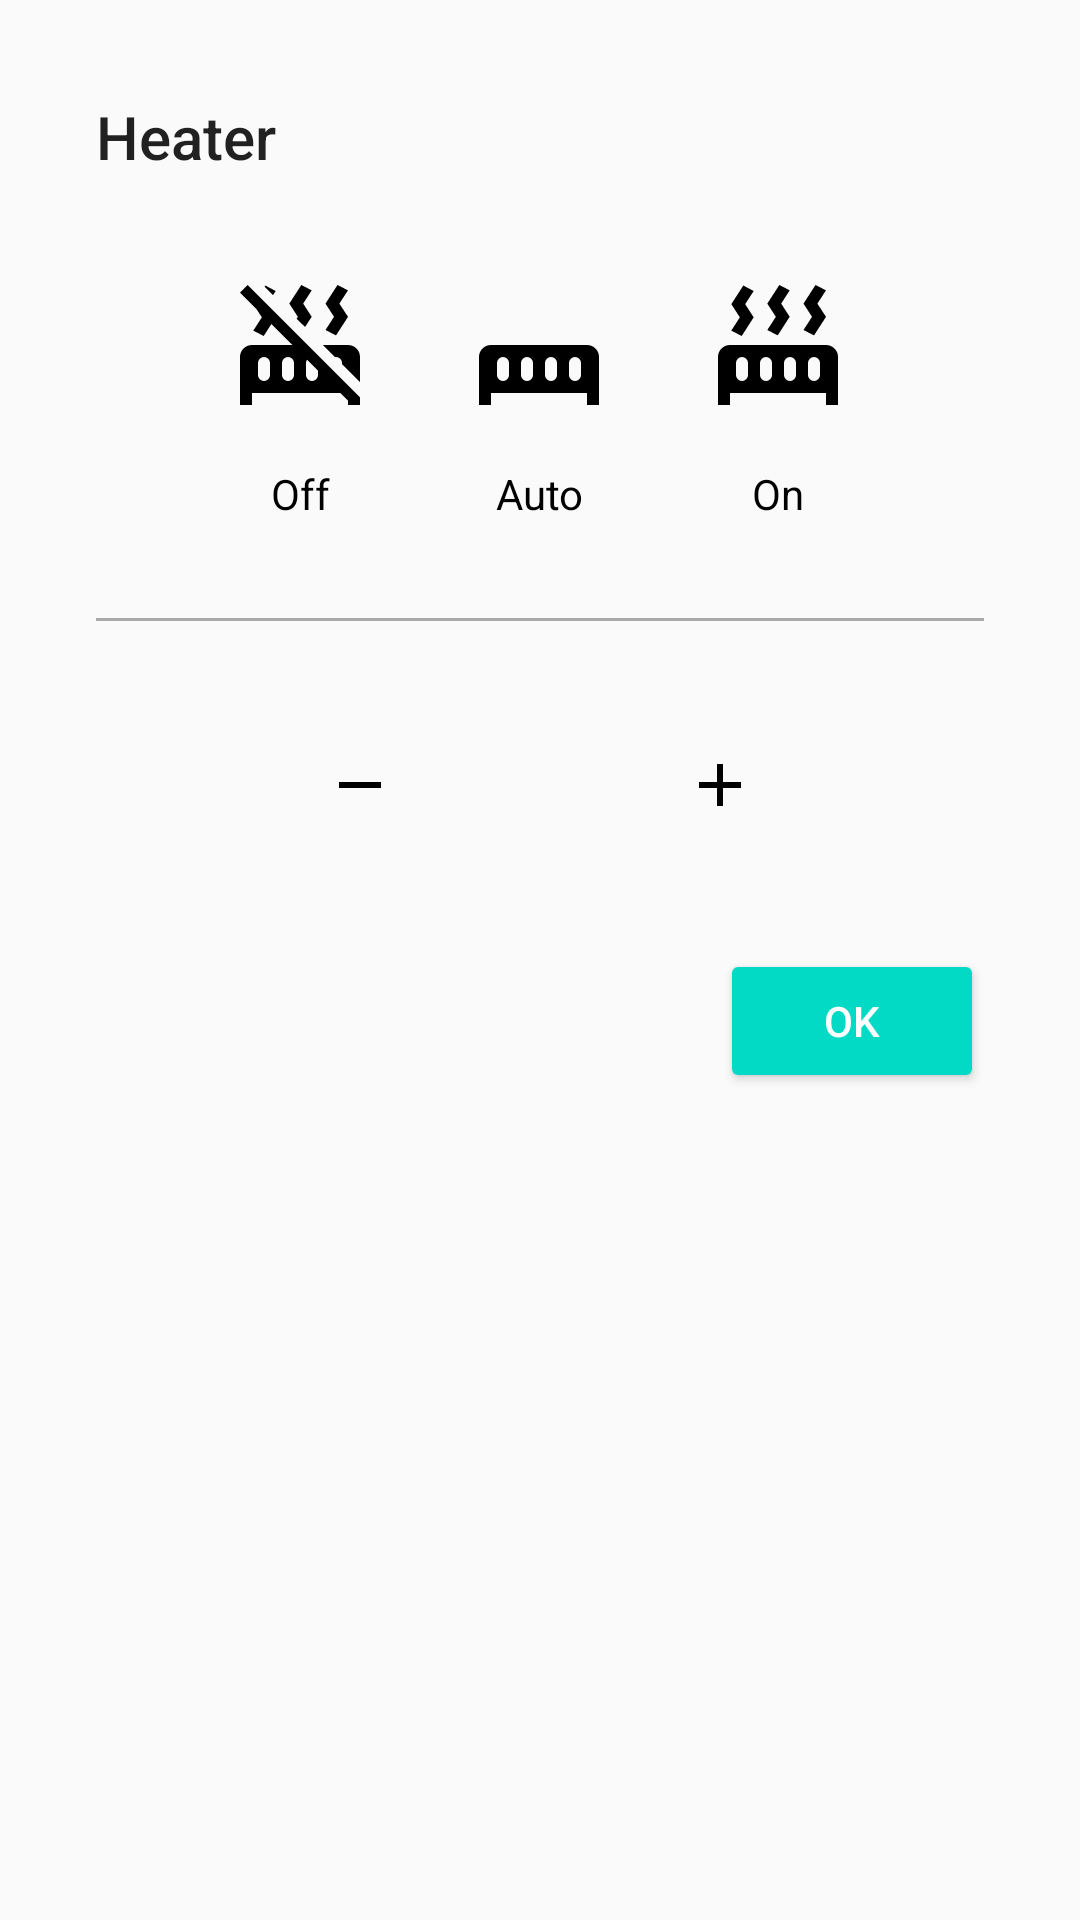

Named icons in this screenshot (1080x1920) and their bounding boxes, box=[x1, y1, x2, y2]:
Increase temperature: box=[699, 764, 741, 806]
